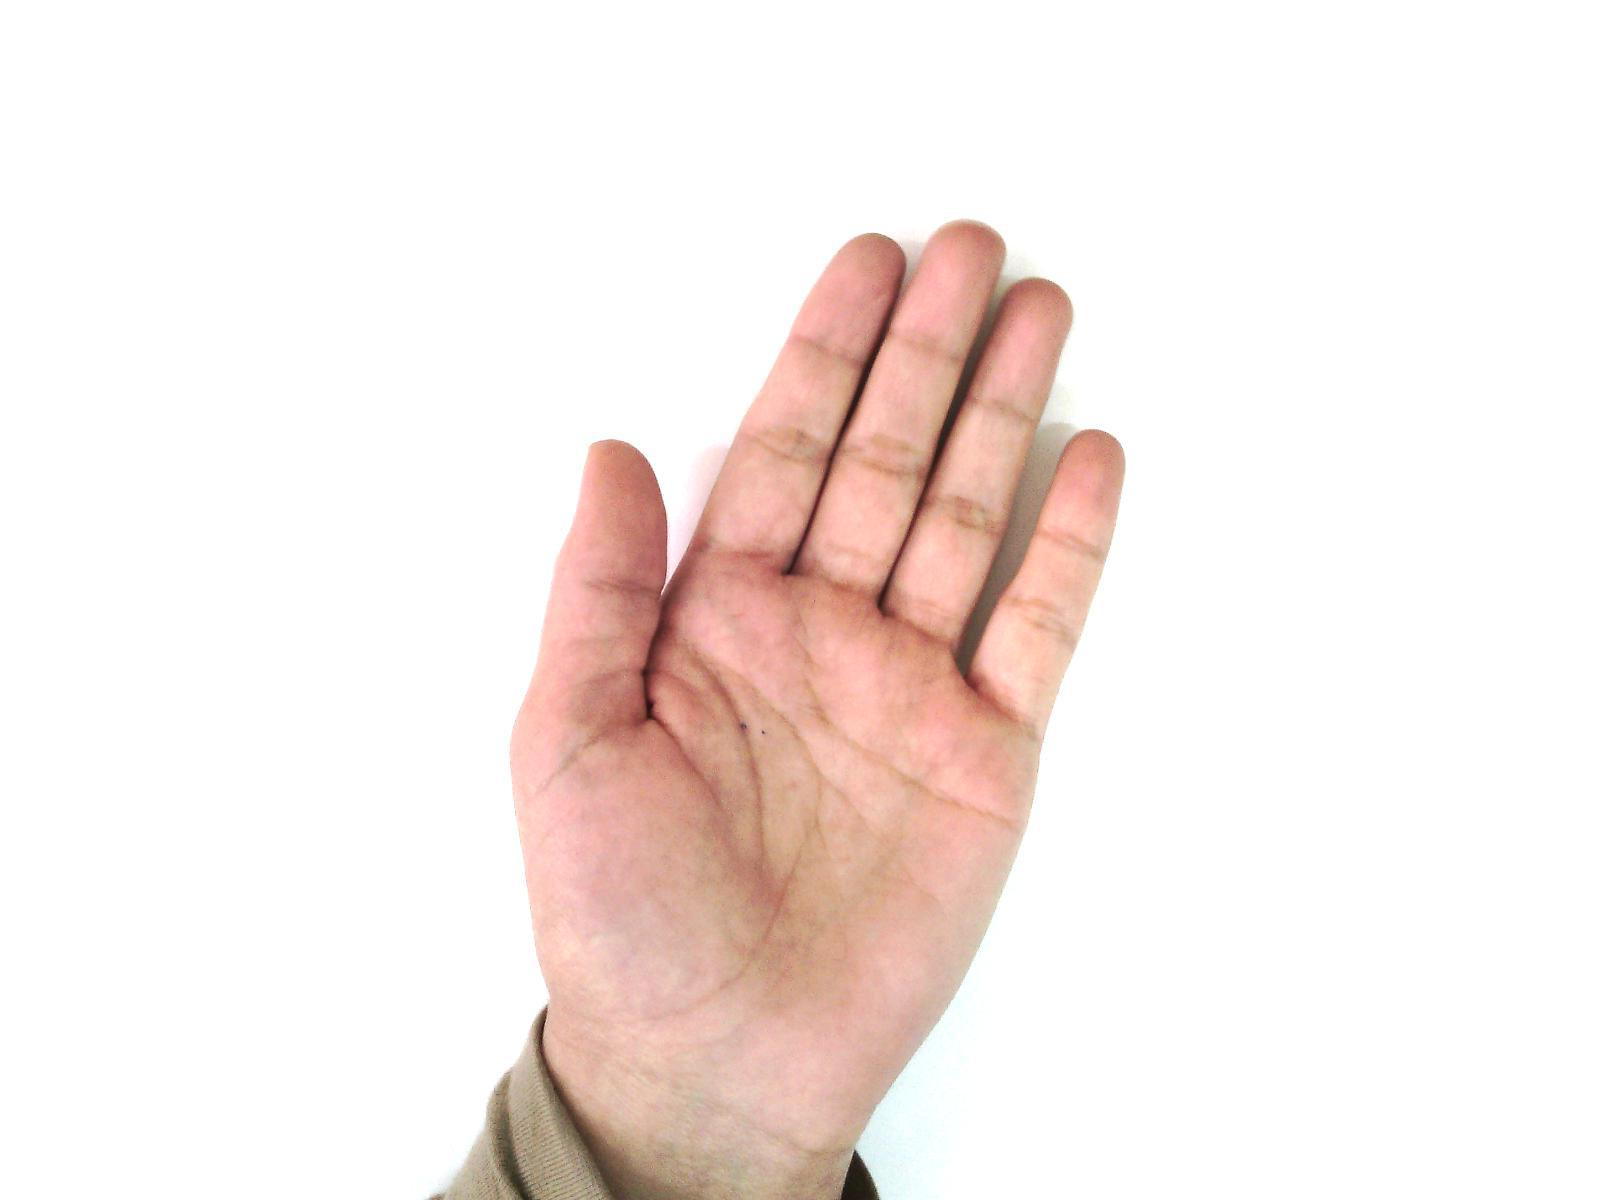hand: (506, 208, 1139, 1042)
